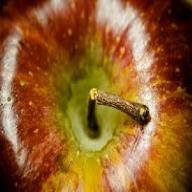apple: (4, 9, 172, 182)
